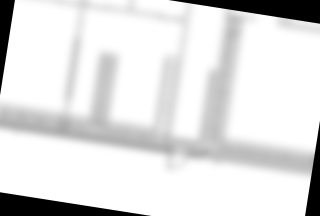door: (165, 148, 191, 174)
wall: (0, 120, 175, 156), (187, 149, 204, 160)
